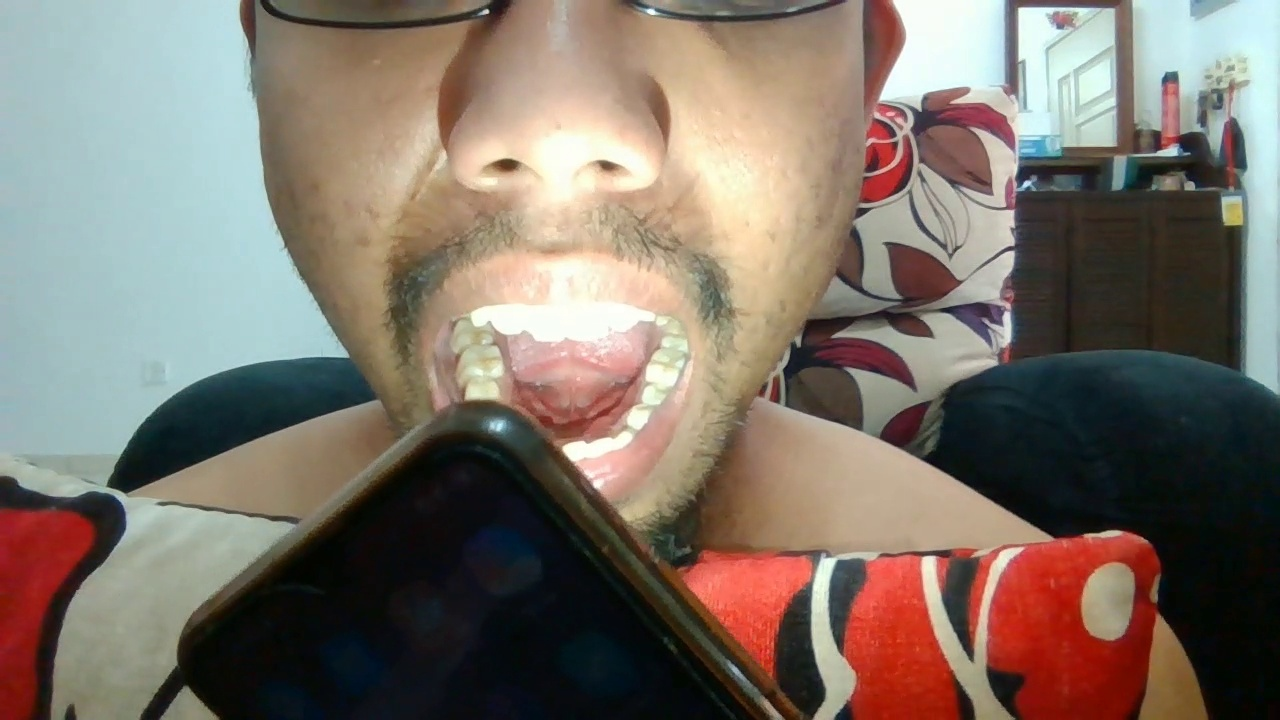1st Molar: (452, 345, 504, 379), (647, 349, 689, 381)
1st Premolar: (626, 403, 655, 427)
2nd Molar: (449, 319, 494, 348), (660, 323, 690, 351)
2nd Premolar: (462, 377, 502, 399), (641, 382, 677, 404)
Canine: (613, 429, 635, 450), (471, 305, 490, 327), (640, 307, 657, 323)
Central Incisor: (525, 303, 566, 343), (566, 303, 608, 342), (563, 440, 589, 463)
Lateral Incisor: (489, 303, 525, 335), (608, 303, 640, 333), (589, 437, 613, 458)
